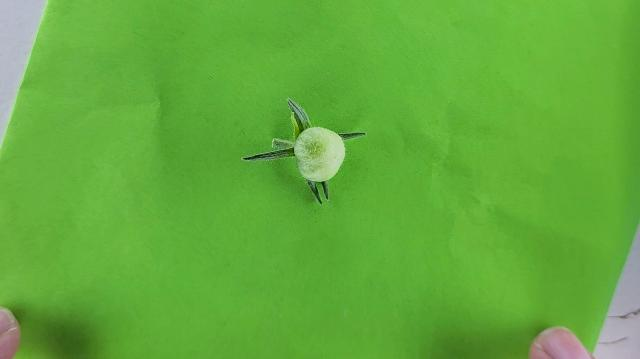Fruit Maturation: (294, 127, 346, 182)
